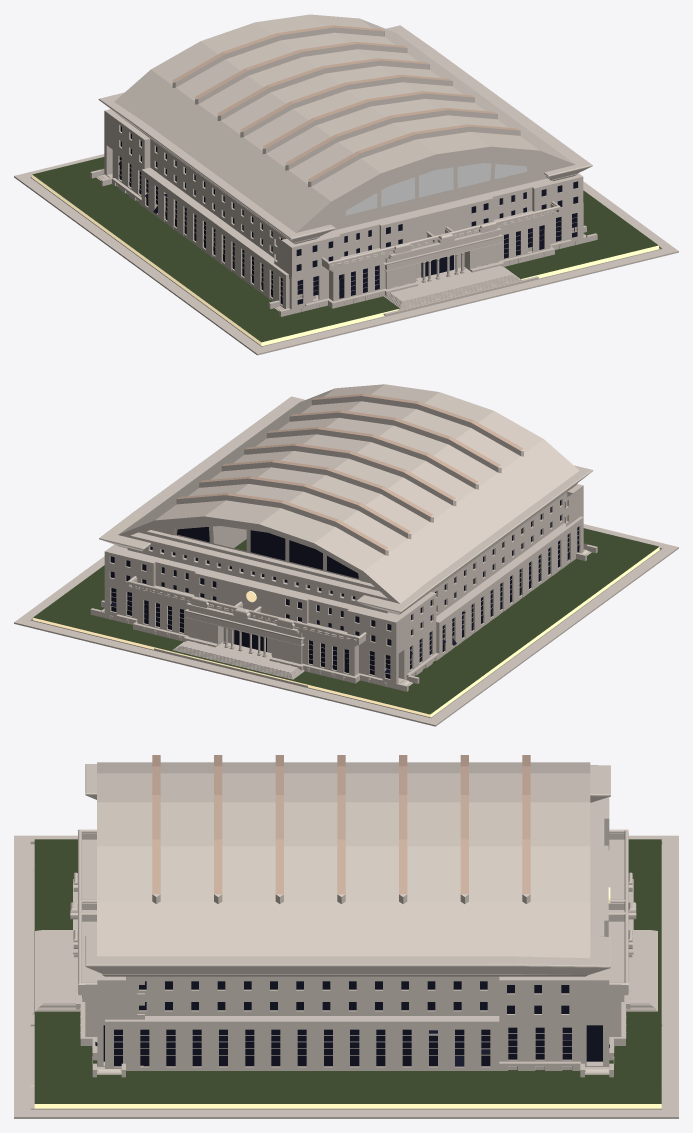
The model's file is 4.Gym.fbx.
The picture shows the model from 3 angles, top to bottom: view 1: azimuth 30°, elevation 25°; view 2: azimuth 150°, elevation 25°; view 3: azimuth 270°, elevation 25°; orthographic projection. The views are drawn at different scales.
Visible parts, largest first — view 1: 1Build, 2Roof, 4Windows, 3Stairs; view 2: 1Build, 2Roof, 4Windows, 3Stairs; view 3: 1Build, 2Roof, 4Windows, 3Stairs.
Boxes of the visible parts, box(x1,y1,x2,y2) form: 1Build: box(14, 25, 678, 355); 2Roof: box(114, 14, 575, 232); 4Windows: box(118, 126, 577, 304); 3Stairs: box(383, 266, 522, 310); 1Build: box(14, 396, 678, 726); 2Roof: box(118, 384, 579, 603); 4Windows: box(110, 500, 579, 678); 3Stairs: box(173, 640, 304, 679); 1Build: box(14, 764, 678, 1118); 2Roof: box(97, 755, 590, 958); 4Windows: box(95, 981, 609, 1066); 3Stairs: box(32, 930, 657, 1014).
Size of the model in its own units: 7338 by 2227 by 7335.
